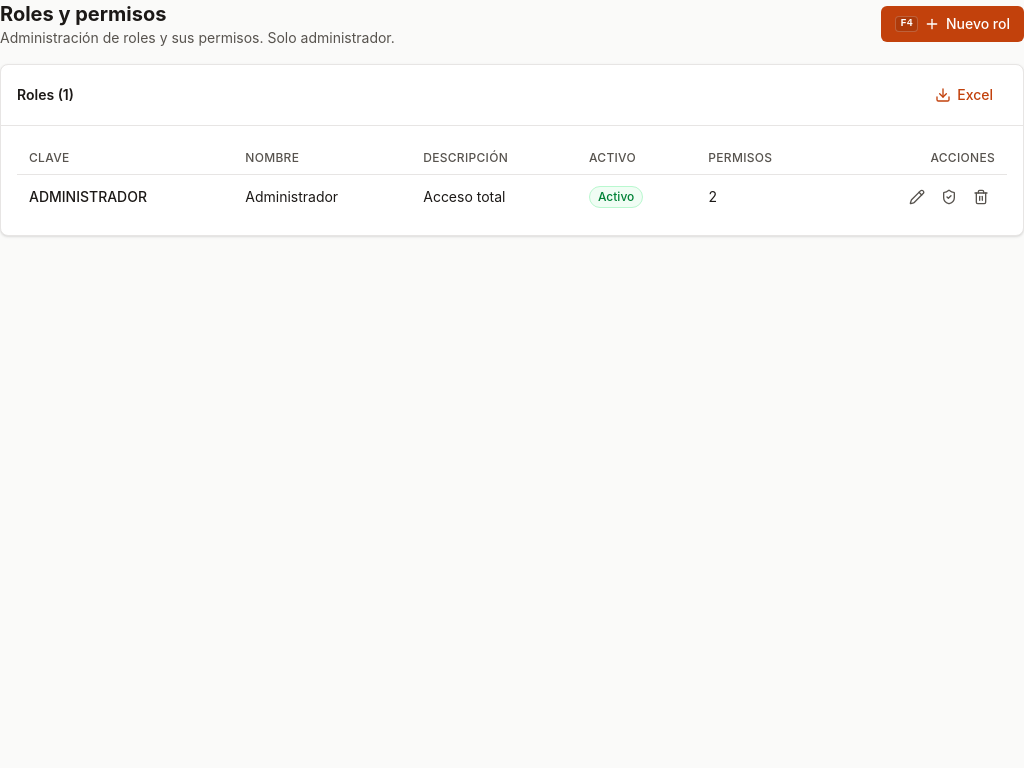
Test case: RolesPage (smoke) › abre el diálogo de edición desde la fila
expect the text "ADMINISTRADOR" is shown: met, box [29,188,147,205]
Click the button named "Editar Administrador" at {"x": 917, "y": 197}, box [903,183,931,211]
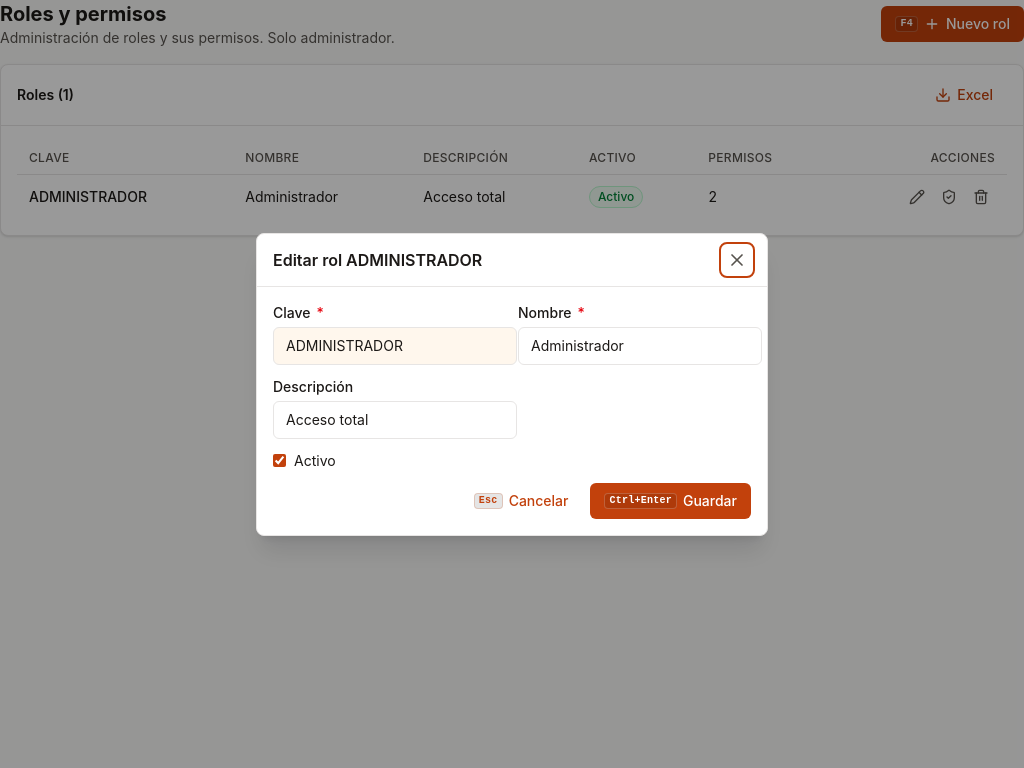
expect the heading "Editar rol ADMINISTRADOR" is shown: met, box [273,248,482,272]
